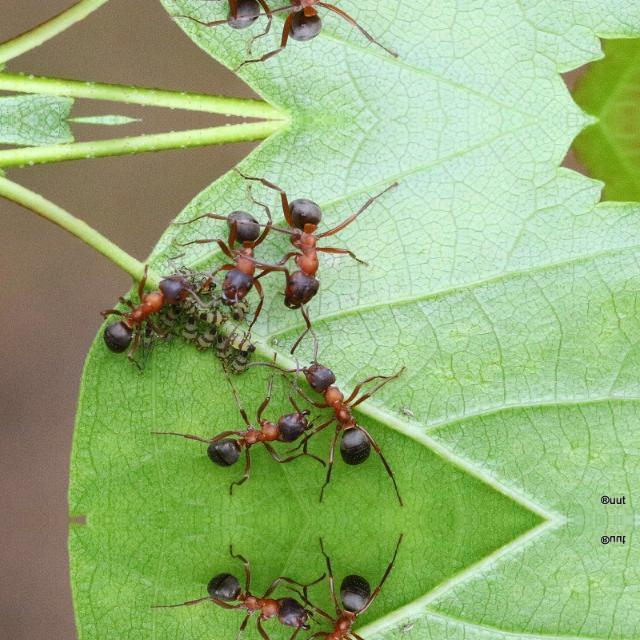Formica: (266, 182, 370, 336), (292, 350, 403, 464), (90, 255, 198, 372), (188, 183, 284, 311), (199, 384, 329, 474), (199, 564, 329, 640), (292, 574, 402, 640), (264, 0, 368, 54), (188, 0, 284, 54)
